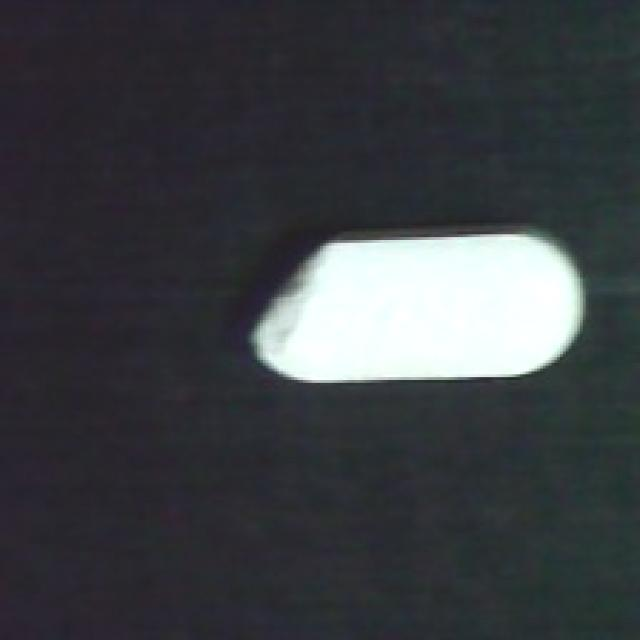defected: (246, 217, 591, 389)
